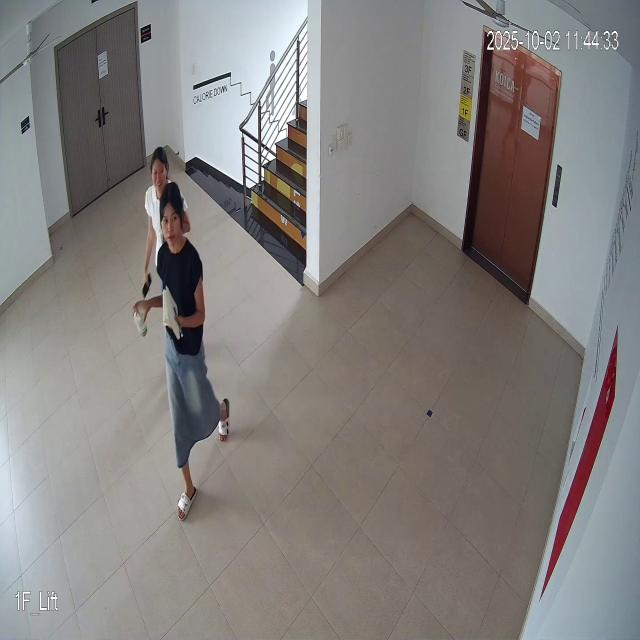face: (157, 181, 187, 251), (150, 138, 170, 198)
